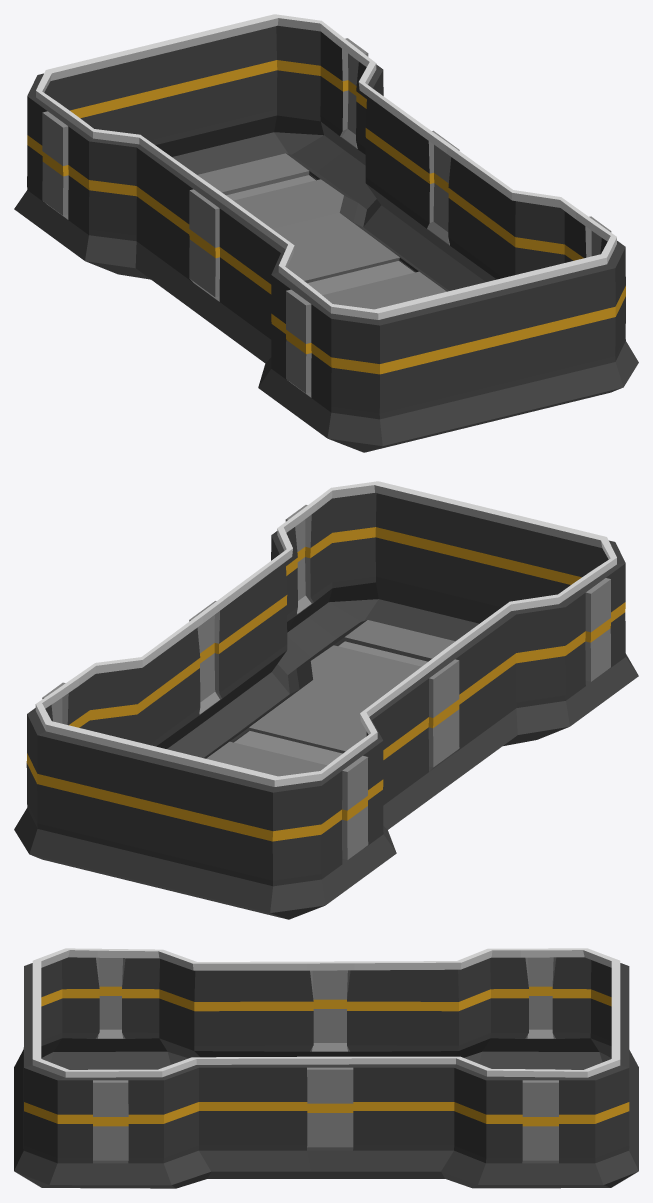
File: Bottom.fbx
The picture shows the model from 3 angles, top to bottom: view 1: azimuth 30°, elevation 25°; view 2: azimuth 150°, elevation 25°; view 3: azimuth 270°, elevation 25°; orthographic projection. The views are drawn at different scales.
Parts seen in each view (by area): view 1: Cube.006; view 2: Cube.006; view 3: Cube.006.
Boxes of the visible parts, bbox=[...] form: Cube.006: bbox=[14, 14, 638, 452]; Cube.006: bbox=[14, 481, 638, 919]; Cube.006: bbox=[14, 948, 638, 1188].
Bounding box in the file's own units: 452 × 195 × 887.
